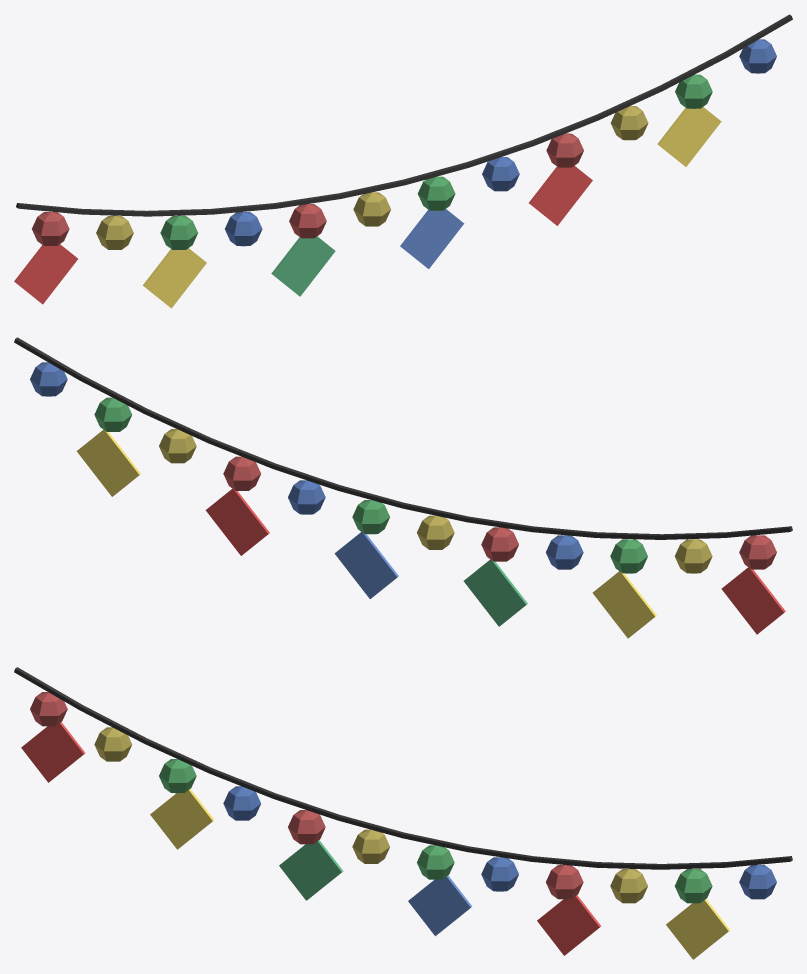
Rendered from VJ_Guirnalda.fbx.
3 renders of one model, top to bottom at view 1: azimuth 30°, elevation 25°; view 2: azimuth 150°, elevation 25°; view 3: azimuth 330°, elevation 25°, orthographic.
Parts seen in each view (by area): view 1: VJ_Guirnalda; view 2: VJ_Guirnalda; view 3: VJ_Guirnalda.
Boxes of the visible parts, x1=… form: VJ_Guirnalda: x1=14, y1=14, x2=792, y2=308; VJ_Guirnalda: x1=14, y1=337, x2=792, y2=638; VJ_Guirnalda: x1=14, y1=667, x2=792, y2=959.
Bounding box in the file's own units: 4.02 × 0.8388 × 0.17.
